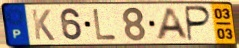6: (60, 7, 84, 42)
8: (121, 6, 148, 43)
A: (155, 7, 191, 42)
K: (30, 8, 56, 42)
L: (91, 8, 119, 41)
P: (185, 5, 214, 43)
